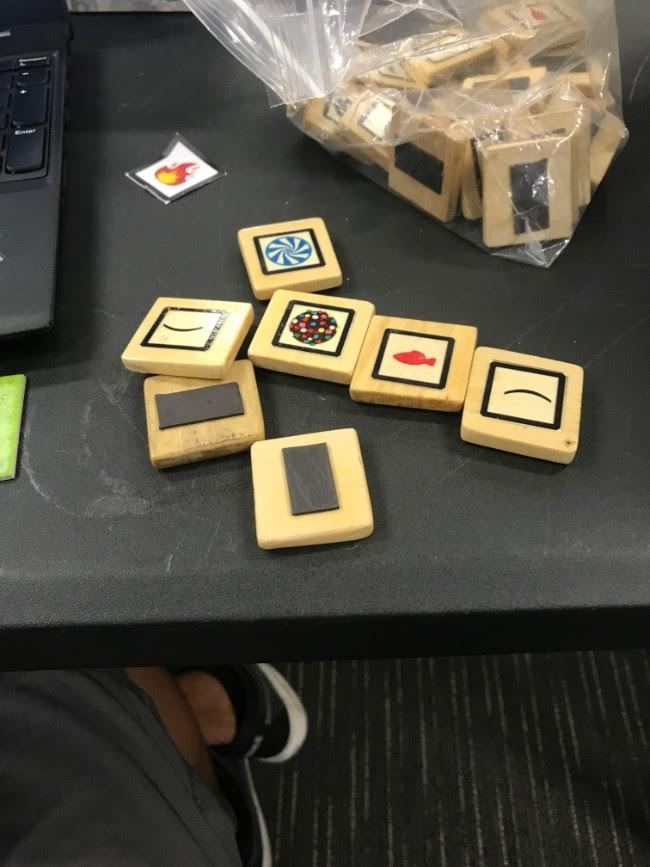cookie: (271, 298, 356, 356)
